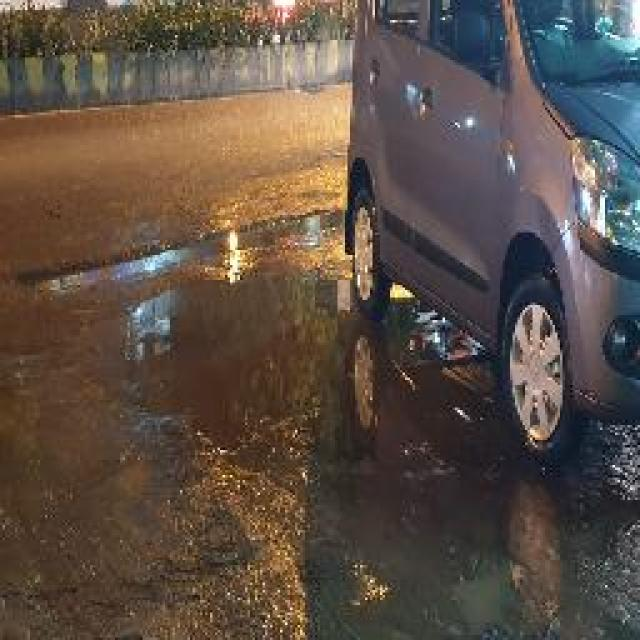puddle: (105, 272, 484, 449)
